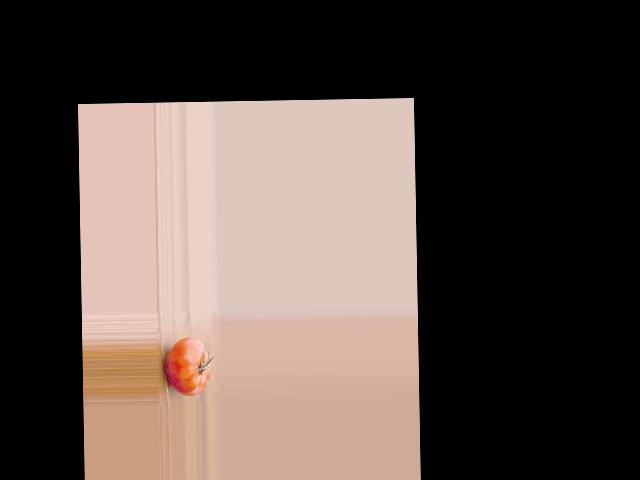tomato: (164, 336, 210, 395)
